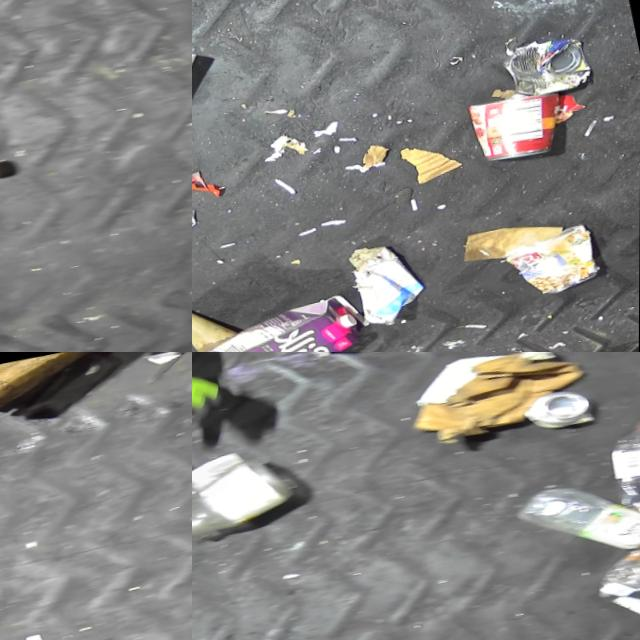can: (499, 217, 602, 301), (464, 84, 569, 165), (497, 27, 595, 102), (521, 382, 599, 437)
non_white_jug: (192, 283, 383, 352)
plastic_bottle: (586, 511, 640, 640), (600, 405, 640, 526)
